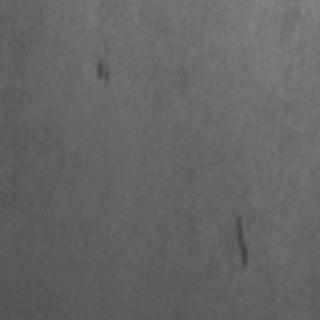inclusion: (225, 206, 252, 270), (88, 52, 110, 88)
